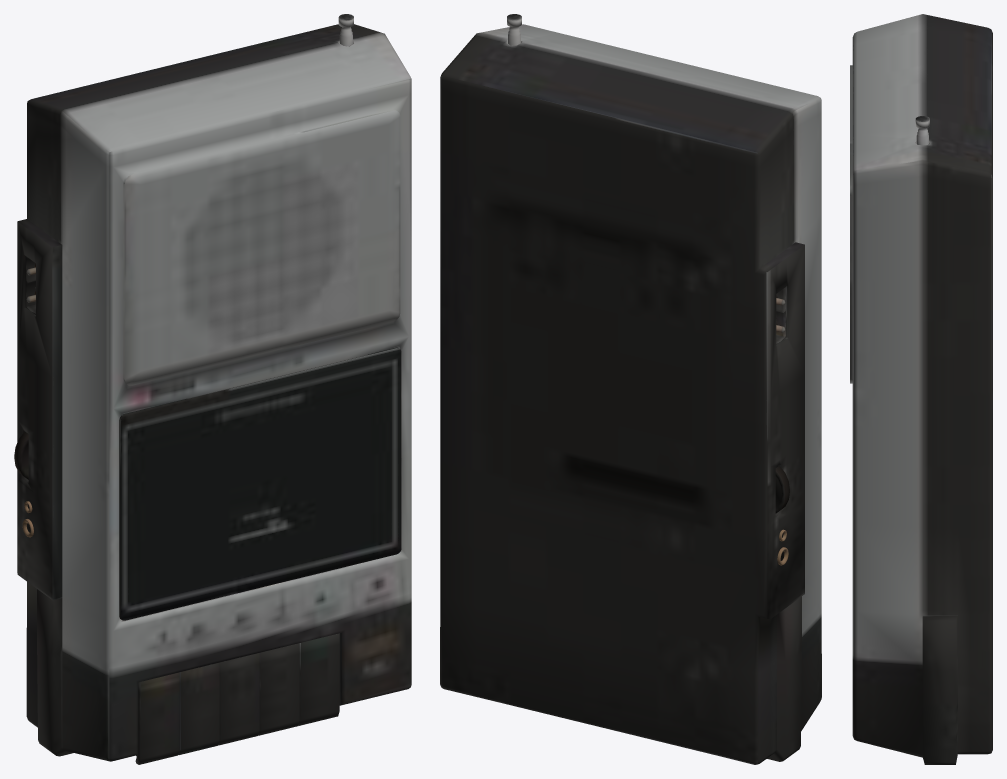
3 renders of one model, left to right at view 1: azimuth 30°, elevation 25°; view 2: azimuth 150°, elevation 25°; view 3: azimuth 270°, elevation 25°, orthographic. The views are drawn at different scales.
Parts seen in each view (by area): view 1: cassette_player_body; view 2: cassette_player_body; view 3: cassette_player_body.
Boxes of the visible parts, bbox=[...] form: cassette_player_body: bbox=[14, 14, 411, 764]; cassette_player_body: bbox=[440, 14, 821, 764]; cassette_player_body: bbox=[850, 14, 992, 764].
Size of the model in its own units: 0.1295 by 0.2368 by 0.0489.
3 materials, 3 textured.
